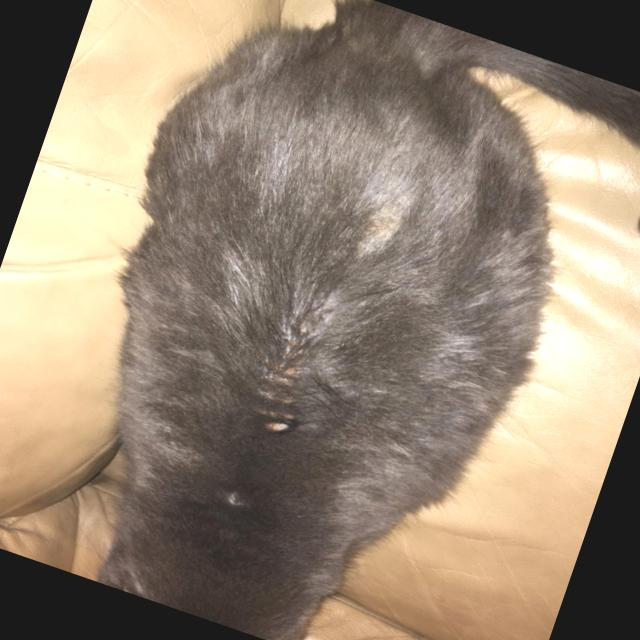cat-hairloss: (241, 278, 335, 442), (351, 172, 416, 264)
